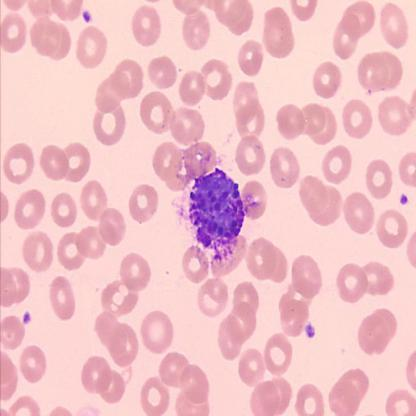Basophil: (186, 166, 247, 256)
